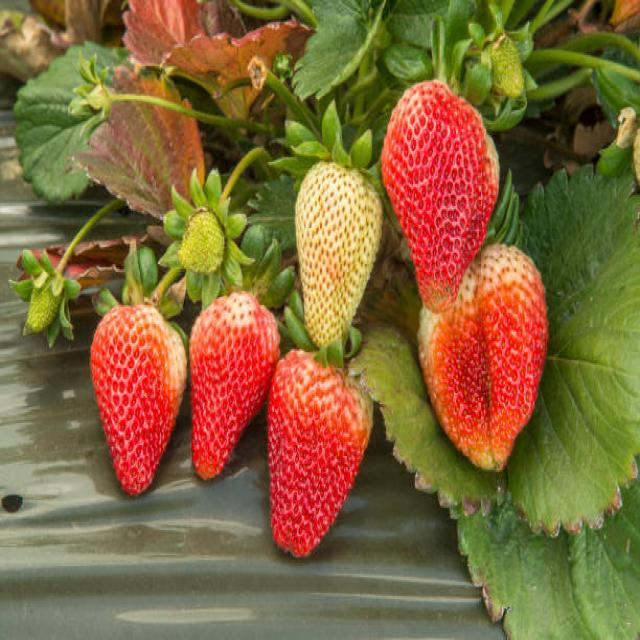Healthy Fruit: (417, 244, 549, 471), (381, 80, 500, 316), (268, 352, 368, 555), (90, 304, 189, 496), (293, 162, 383, 344), (191, 294, 280, 475)
